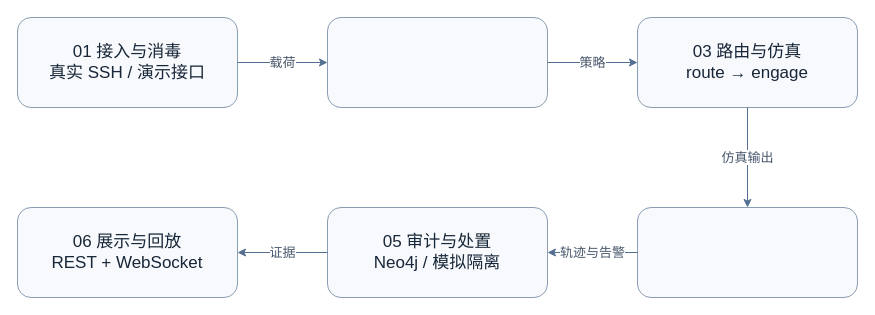
Image size: 875x315. Some labels were removed from this diagram. Here are the shapes that lost their labels. From the top down, the box of each, then its label:
(326, 16, 548, 108): 02 意图与规划 analyze → plan
(636, 206, 858, 298): 04 记录响应来源 critique
